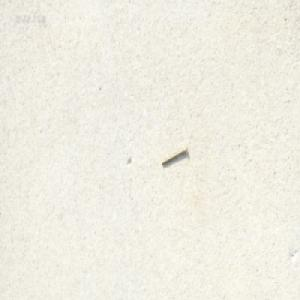Bolt: (160, 145, 187, 167)
